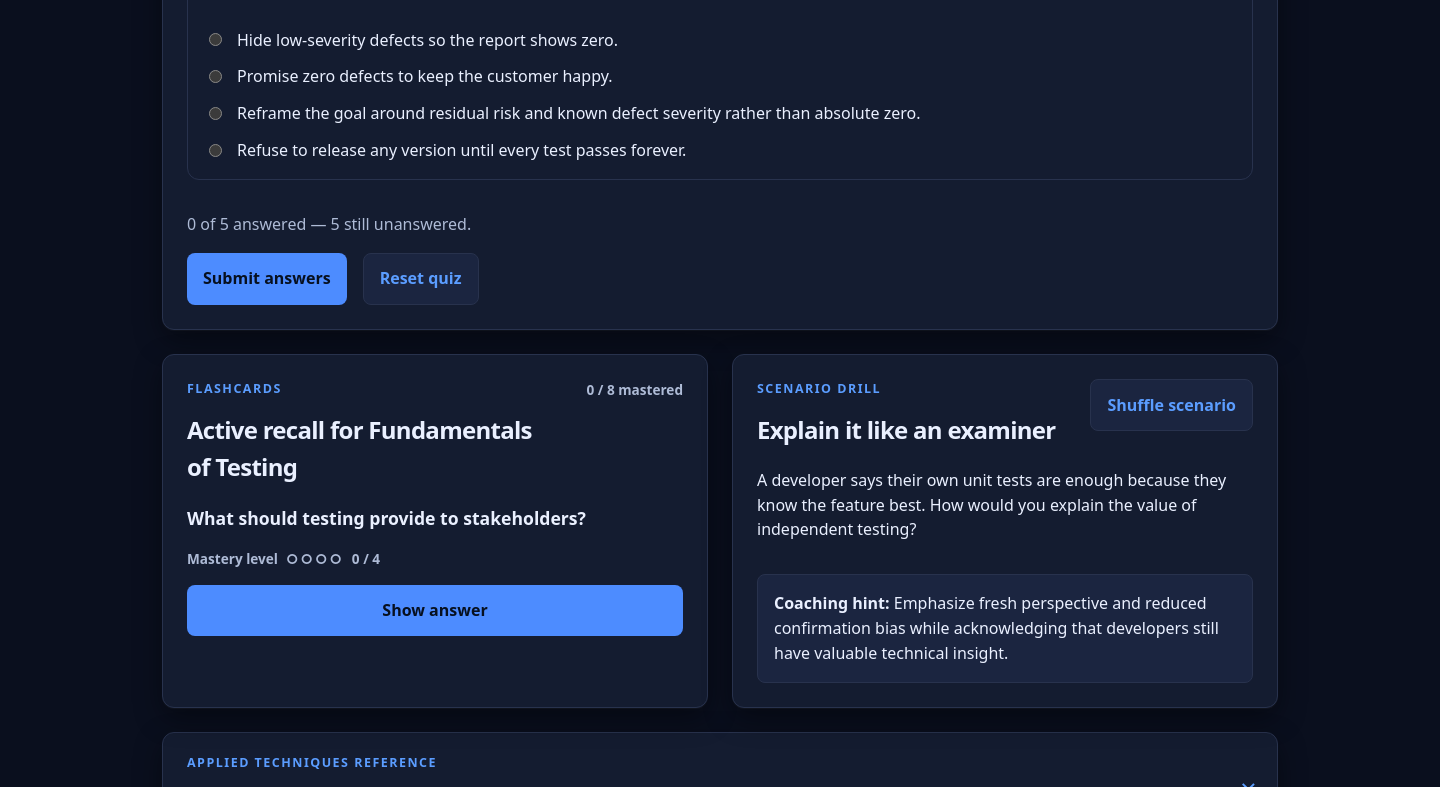
App › quiz interaction › reshuffles the scenario drill from the scenario panel button
(page scrolled)
Click the button "Shuffle scenario".
click(1172, 405)  # box top-left (1090, 379), bottom-right (1253, 431)
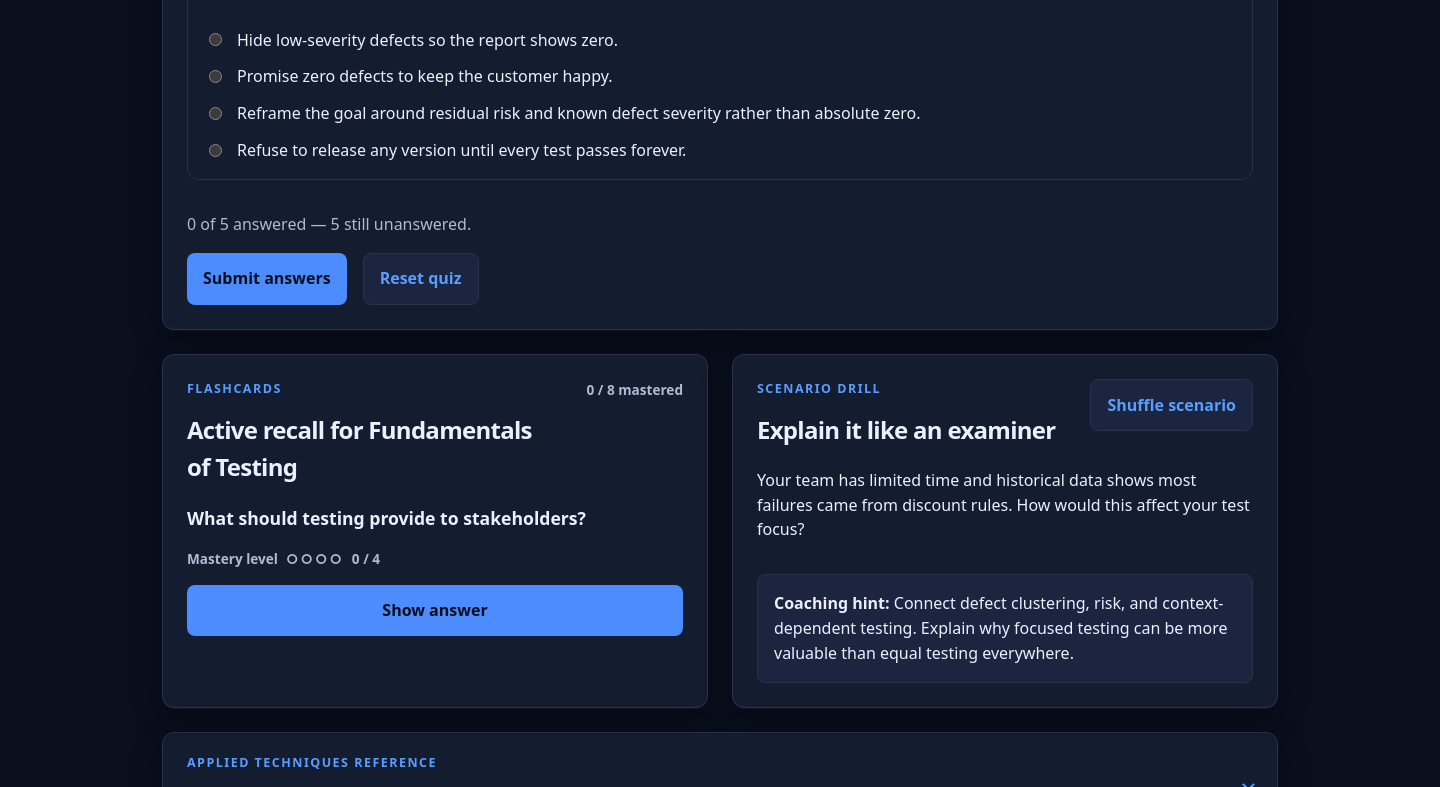
Result: the text with test id "scenario-prompt" no longer shows "A developer says their own unit tests are enough because they know the feature best. How would you explain the value of independent testing?"
